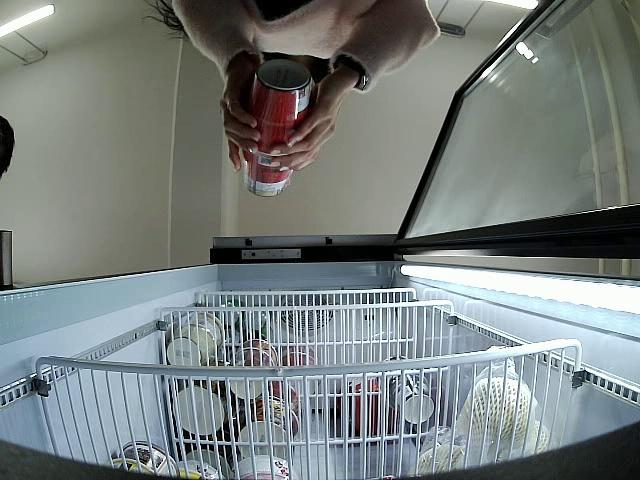00_hand: (269, 73, 360, 173), (219, 59, 261, 173)
02_shinRamen_S: (243, 59, 313, 150), (236, 147, 292, 197)
